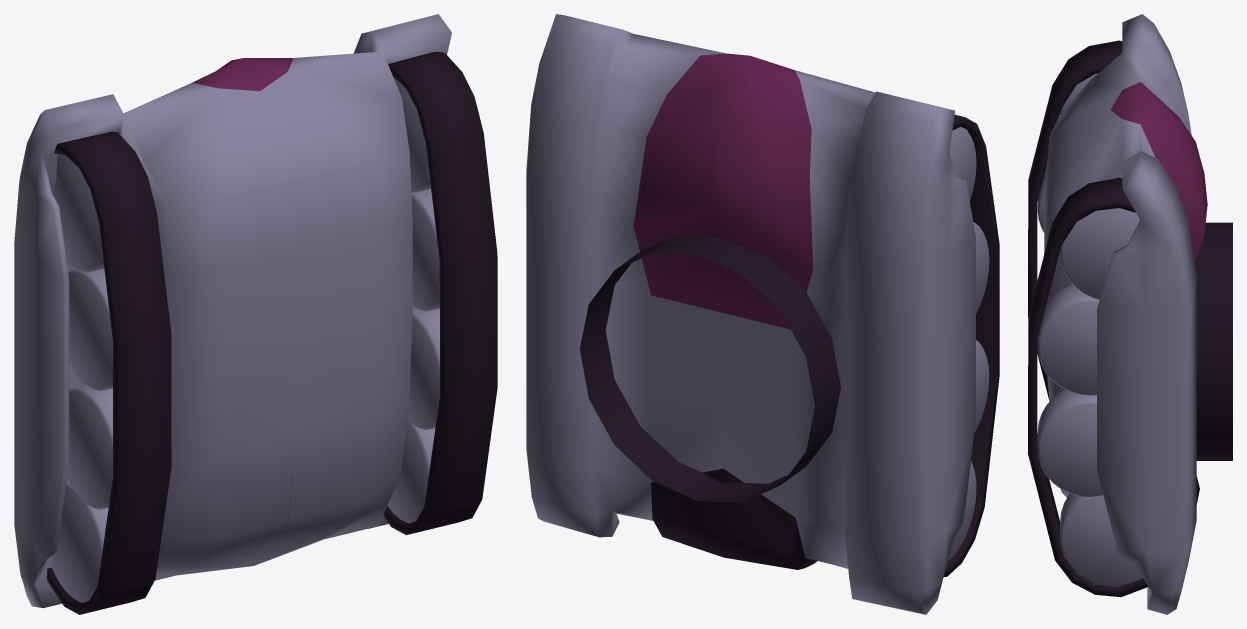
File: TankBody.fbx
The picture shows the model from 3 angles, left to right: view 1: azimuth 30°, elevation 25°; view 2: azimuth 150°, elevation 25°; view 3: azimuth 270°, elevation 25°; orthographic projection. The views are drawn at different scales.
Visible parts, largest first — view 1: Tank; view 2: Tank; view 3: Tank.
Part boxes in pixels (box(x1,y1,x2,y2)): Tank: box(14, 14, 497, 614); Tank: box(526, 14, 999, 614); Tank: box(1028, 14, 1232, 614).
Bounding box in the file's own units: 514 × 612 × 258.
